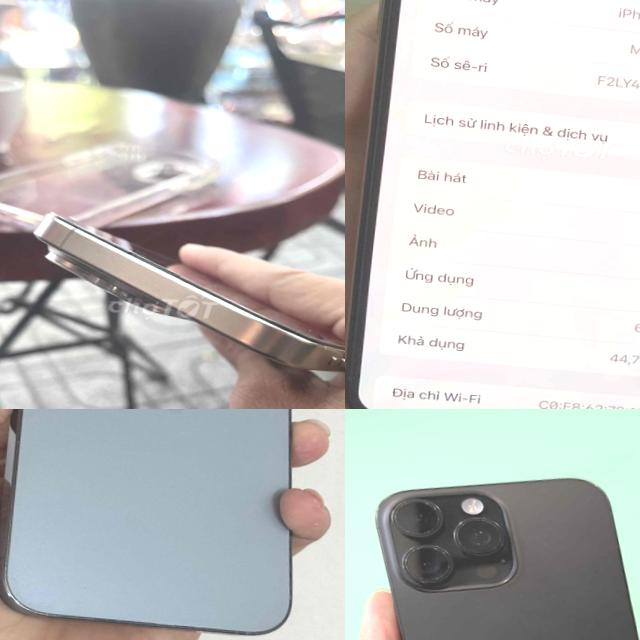gen_12_13: (0, 409, 332, 640)
gen_15: (13, 199, 345, 393)
gen_16: (376, 479, 639, 640)
gen_x_xs: (345, 0, 640, 409)
